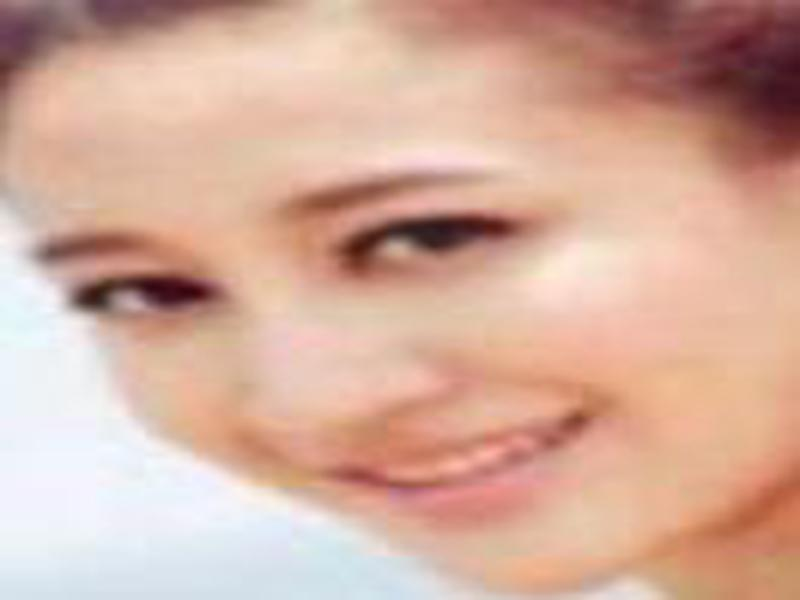without_mask: (10, 51, 734, 591)
